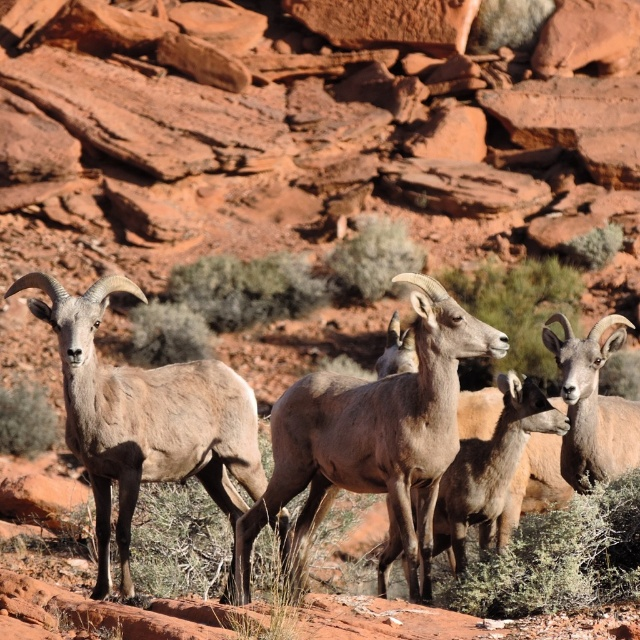Goat: (4, 272, 640, 605)
